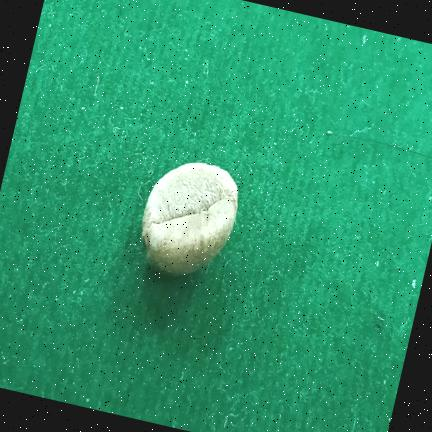good: (142, 163, 238, 276)
